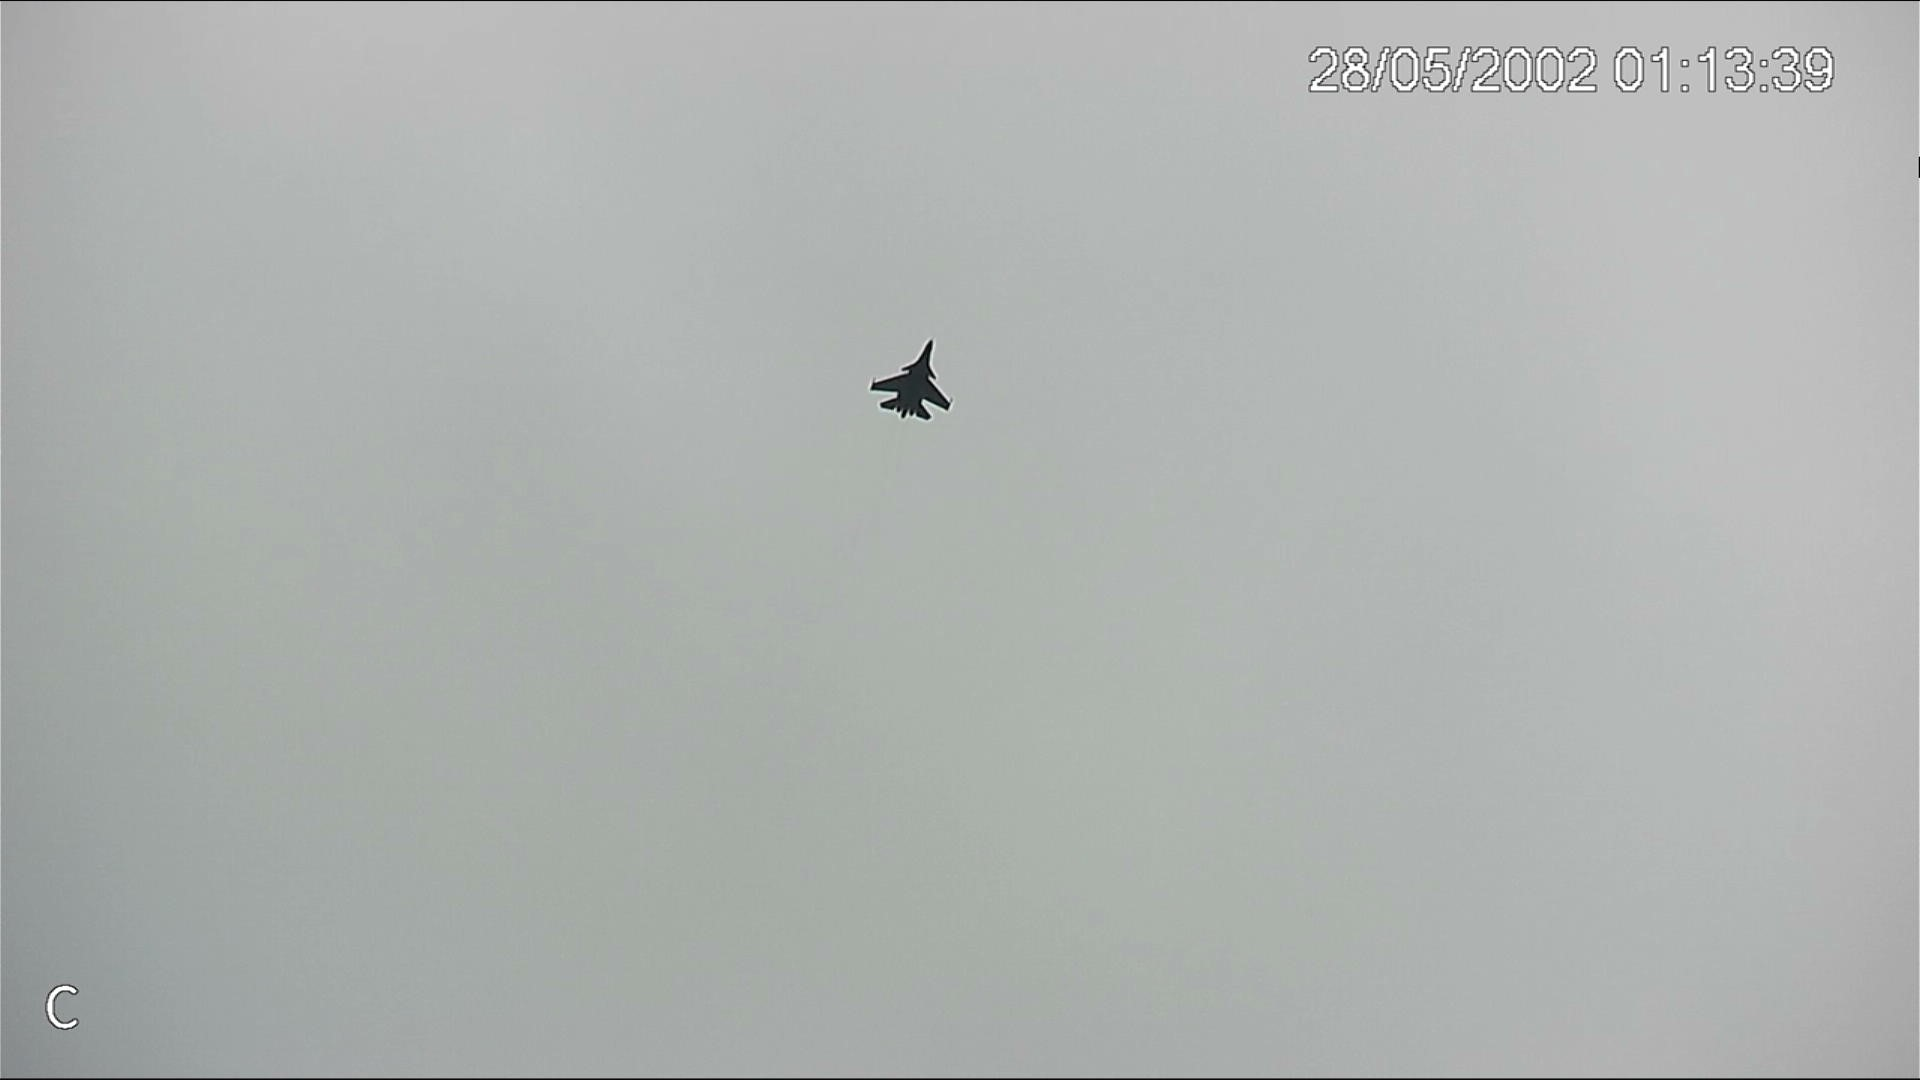SU_30: (865, 335, 959, 426)
